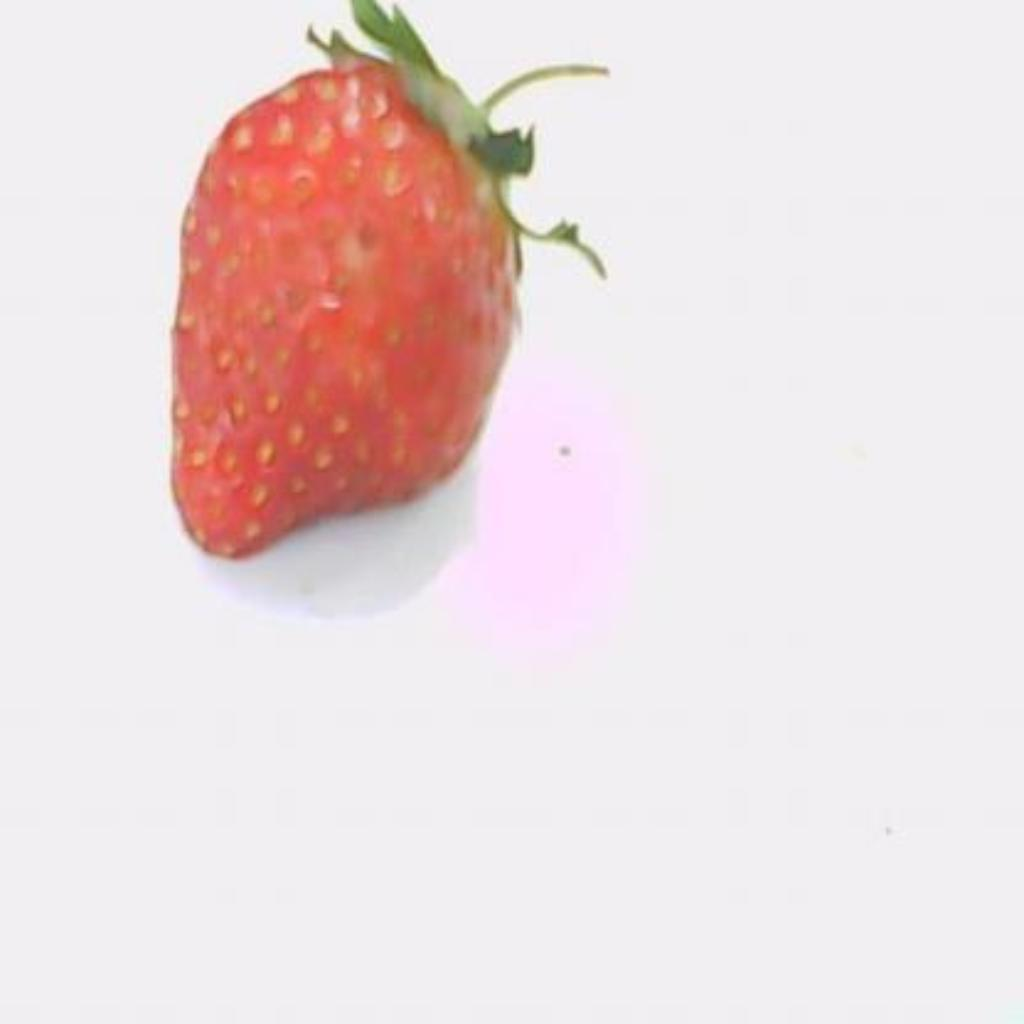strawberry: (172, 0, 606, 557)
